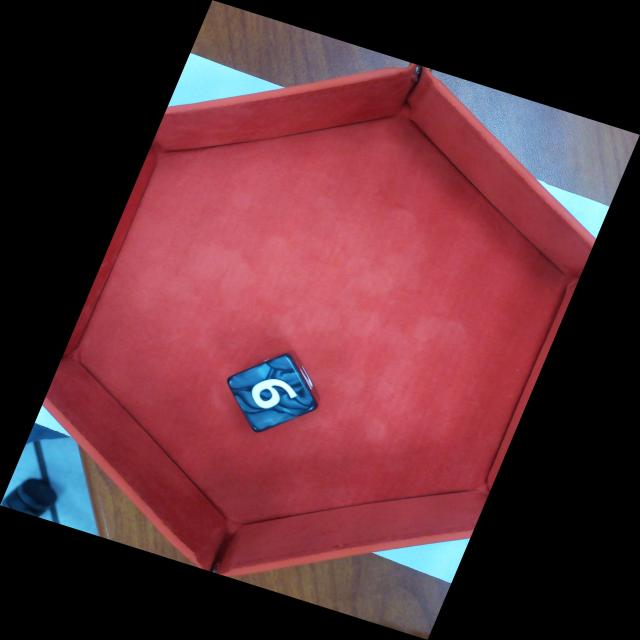dice: (221, 352, 321, 437)
